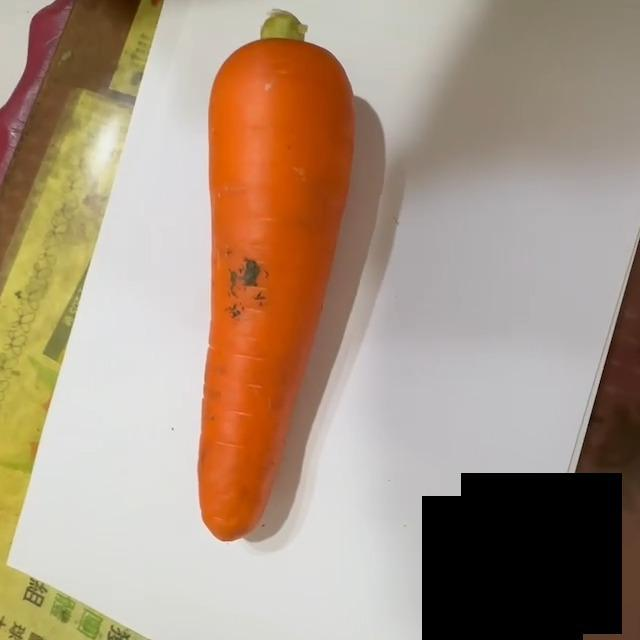carrot: (198, 11, 358, 547)
